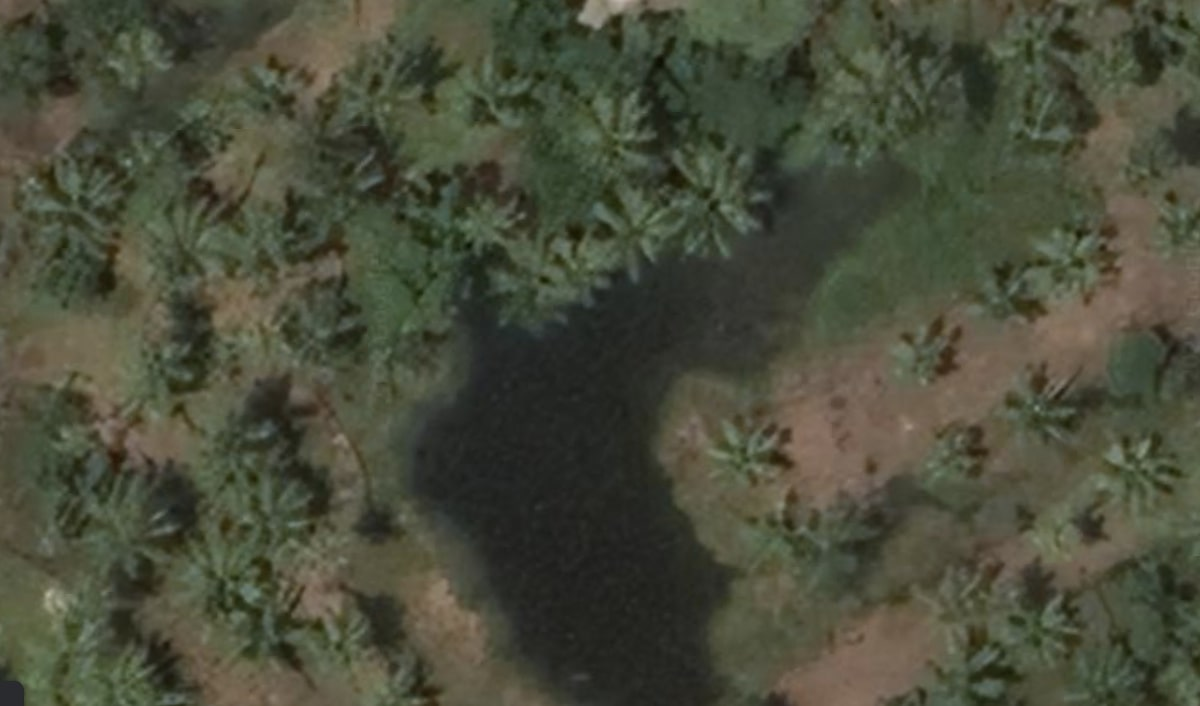coconut: (659, 149, 766, 253), (225, 480, 314, 567), (95, 493, 180, 577), (582, 191, 670, 272), (1093, 432, 1183, 511), (443, 64, 531, 140), (149, 213, 226, 296), (988, 376, 1071, 451), (708, 411, 789, 487), (916, 566, 995, 643), (1003, 594, 1080, 670), (1034, 227, 1108, 306), (305, 598, 378, 673), (458, 184, 525, 259), (895, 328, 954, 389)
